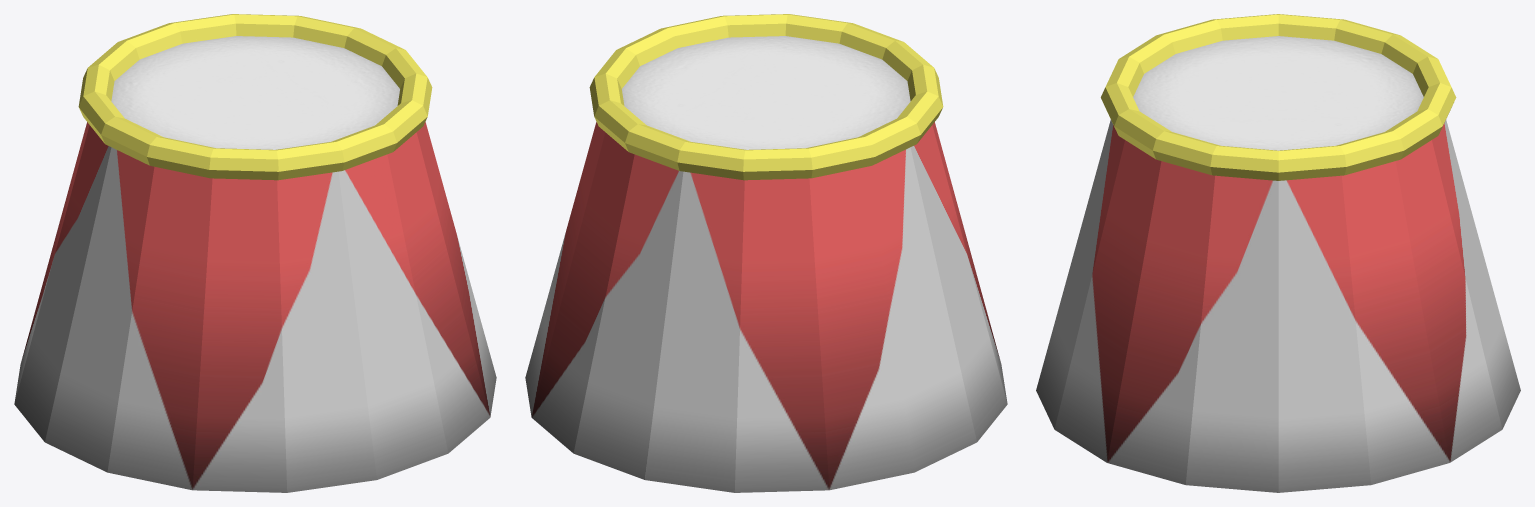
Rendered from Circus_Stand_1-2.fbx.
3 views of the same model, side by side, from view 1: azimuth 30°, elevation 25°; view 2: azimuth 150°, elevation 25°; view 3: azimuth 270°, elevation 25° (orthographic).
Parts seen in each view (by area): view 1: Circus_Stand_1-2; view 2: Circus_Stand_1-2; view 3: Circus_Stand_1-2.
Boxes of the visible parts, x1,y1,x2,y2 form: Circus_Stand_1-2: (14, 14, 496, 492); Circus_Stand_1-2: (525, 14, 1007, 492); Circus_Stand_1-2: (1036, 14, 1520, 492).
Size of the model in its own units: 150 by 105 by 150.
2 materials, 2 textured.
